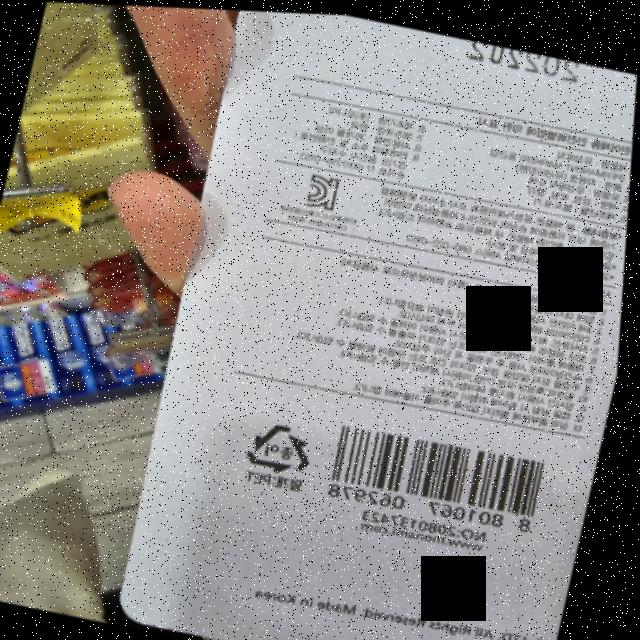Paper: (249, 416, 326, 479)
